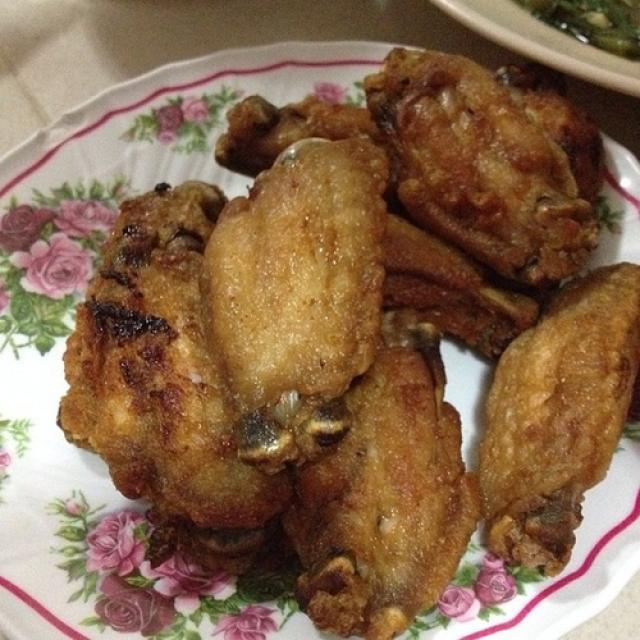Deep fried chicken wing: (81, 80, 612, 611)
